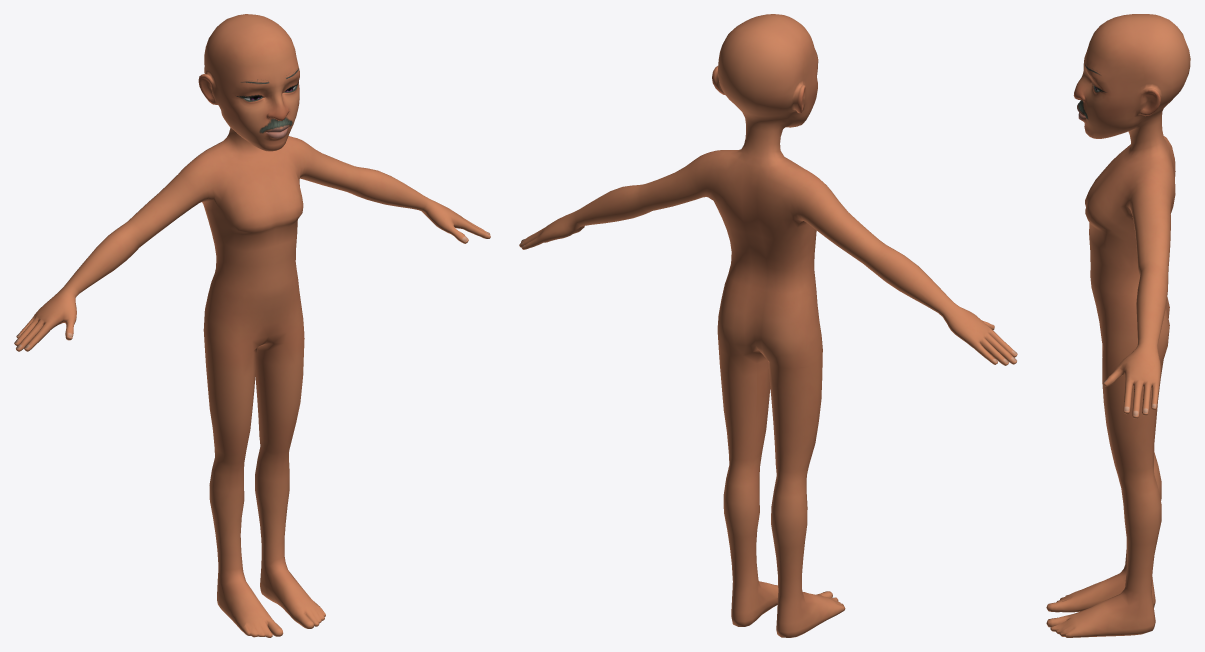
Rendered from frame_0016.glb.
3 views of the same model, side by side, from view 1: azimuth 30°, elevation 25°; view 2: azimuth 150°, elevation 25°; view 3: azimuth 270°, elevation 25° (orthographic). The views are drawn at different scales.
Parts seen in each view (by area): view 1: frame_0016_head_geo; view 2: frame_0016_head_geo; view 3: frame_0016_head_geo.
Boxes of the visible parts, x1=… form: frame_0016_head_geo: x1=14, y1=14, x2=490, y2=637; frame_0016_head_geo: x1=519, y1=14, x2=1017, y2=637; frame_0016_head_geo: x1=1046, y1=14, x2=1190, y2=637.
Size of the model in its own units: 1.28 by 1.5 by 0.3253.
3 materials, 3 textured.
